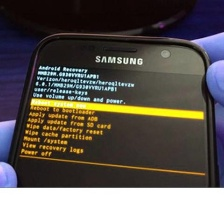phone: (0, 29, 221, 224)
